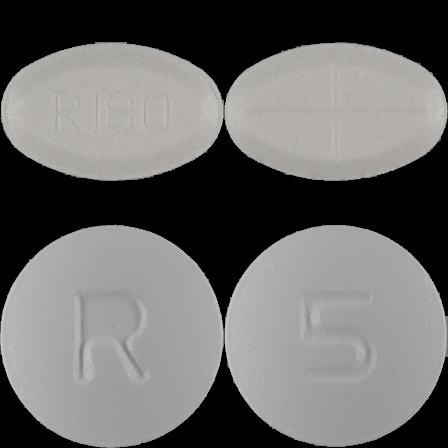55111-180: (0, 0, 224, 224)
